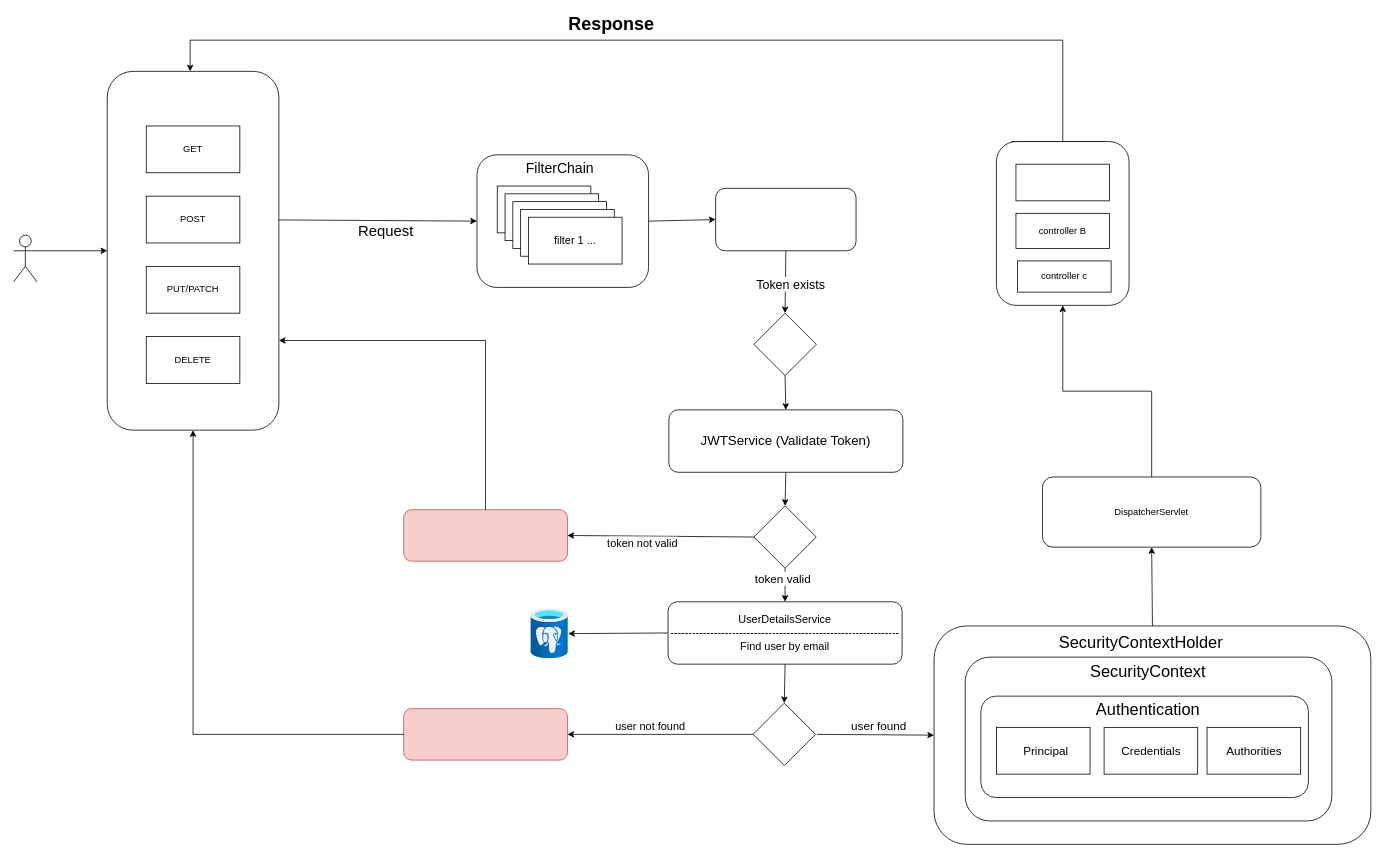
The diagram is 1385 pixels wide and 858 high, and some of its shapes have lost their labels. The shapes that lost their labels are listed below. From the top down, each one's centre as x and y in pixels, then its label:
At pixel 1062 182: "controller A".
At pixel 785 219: "OncePerRequestFilter JwtAuthenticationFilter".
At pixel 25 258: "Actor".
At pixel 485 535: "TokenInvalidException".
At pixel 485 734: "UserNotFound".
